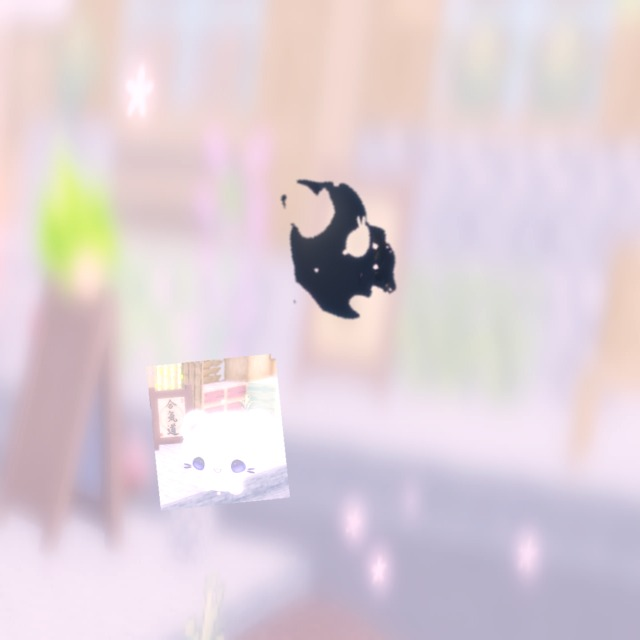urso_branco: (146, 353, 290, 511)
urso_preto: (247, 138, 427, 358)
